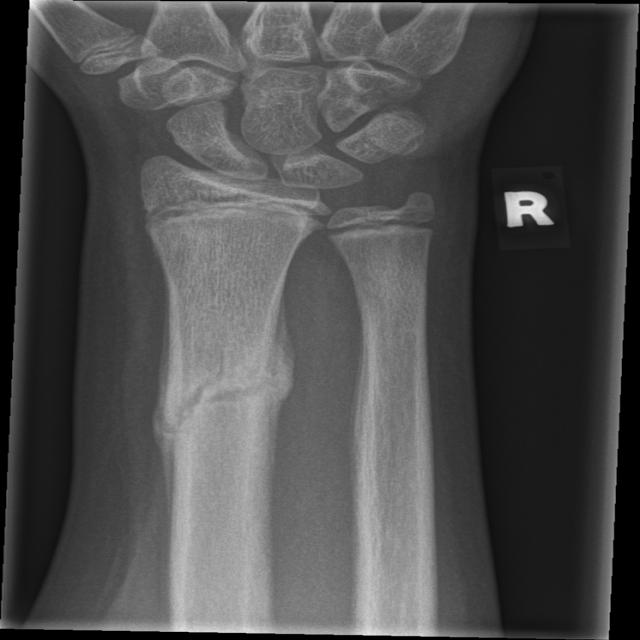radius fracture: (140, 313, 304, 569)
